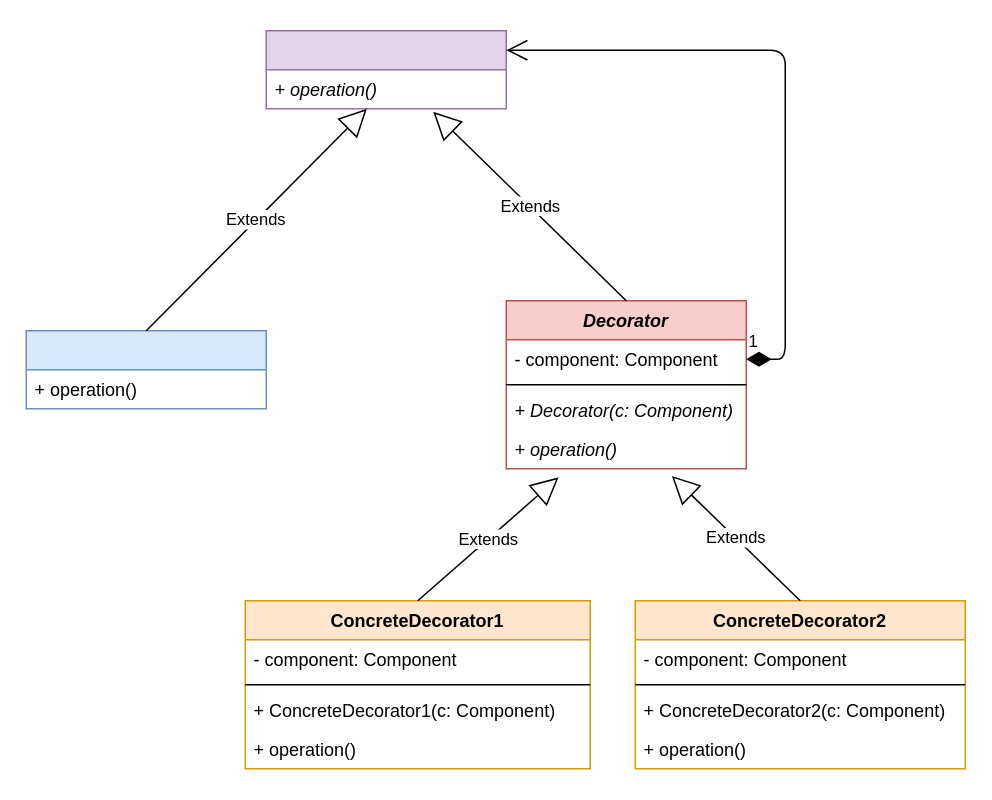
Image size: 992x800. Some labels were removed from this diagram. Each missing label, with the box of its shape:
Component: (265, 29, 506, 109)
ConcreteComponent: (25, 329, 266, 409)
